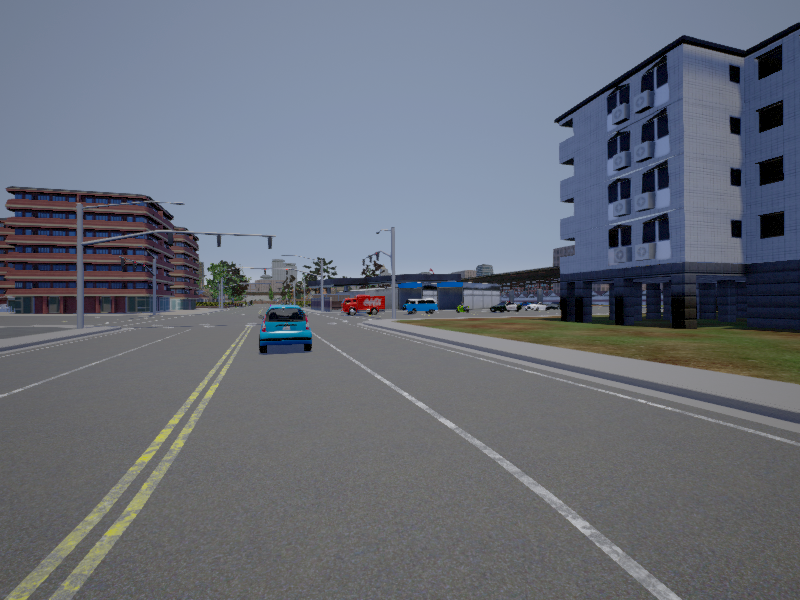Benign: (261, 306, 315, 356), (341, 294, 389, 319), (400, 297, 441, 316), (489, 299, 524, 313)
